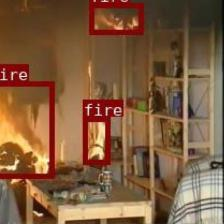fire: (0, 80, 54, 178), (89, 2, 142, 34), (82, 116, 109, 164)
